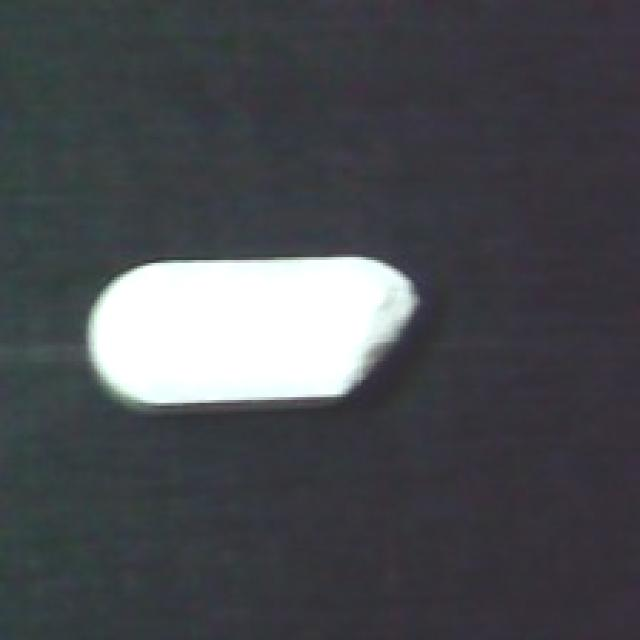defected: (83, 254, 429, 420)
